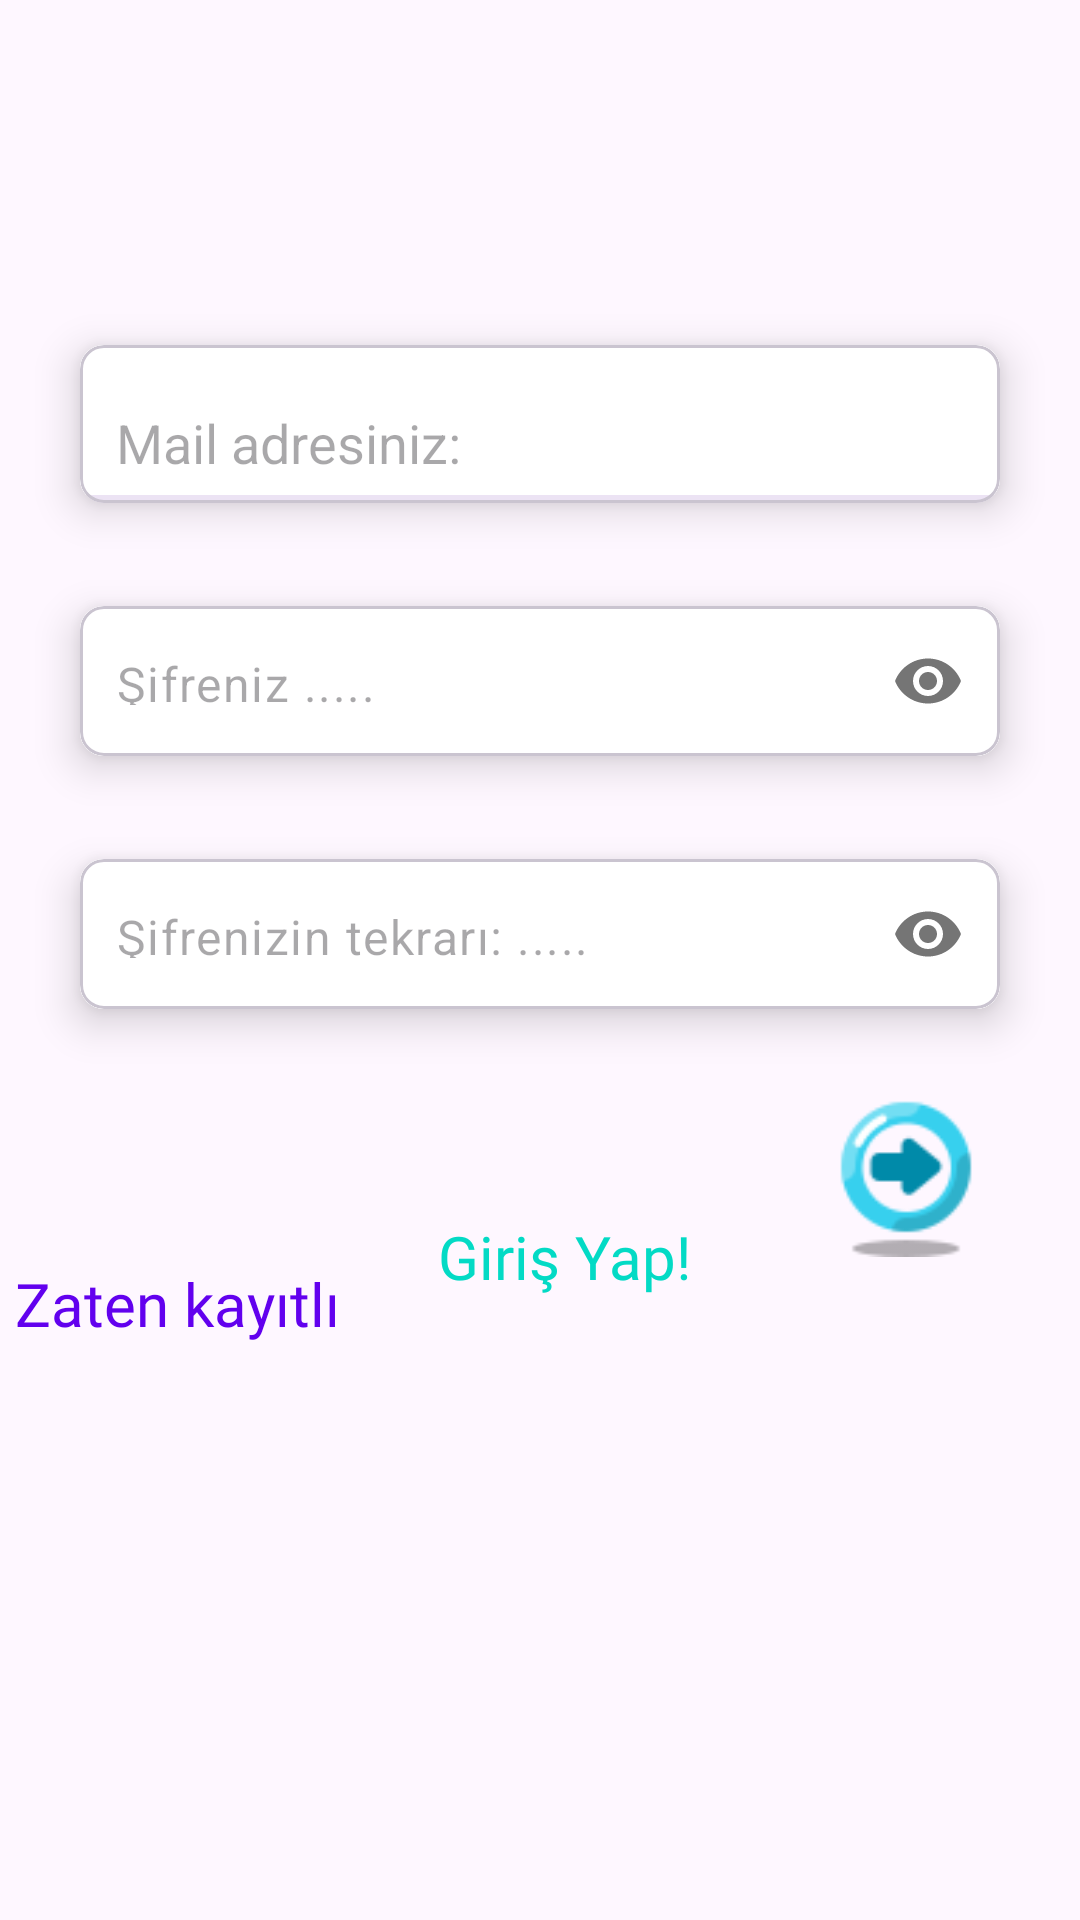

Where icons sit on this 1080x1920 app screen, as (x1, y1, x2, y2):
nextt: (840, 1101, 972, 1257)
